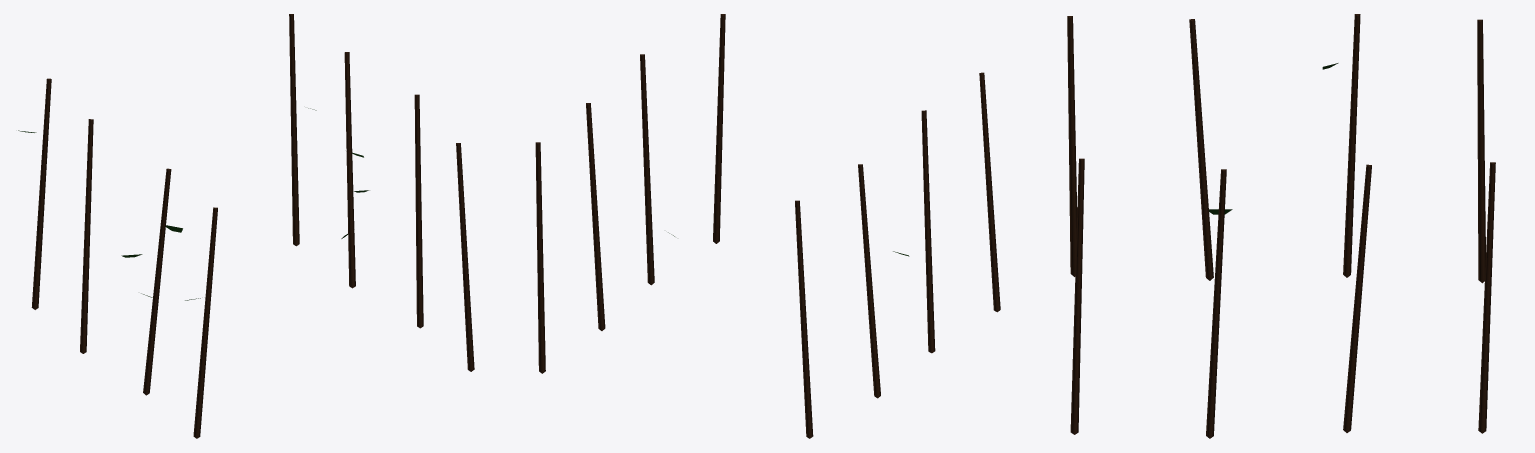
File: fm_yam_2_lod1.glb
The picture shows the model from 3 angles, left to right: view 1: azimuth 30°, elevation 25°; view 2: azimuth 150°, elevation 25°; view 3: azimuth 270°, elevation 25°; orthographic projection. The views are drawn at different scales.
Parts seen in each view (by area): view 1: fm_yam_2_lod1; view 2: fm_yam_2_lod1; view 3: fm_yam_2_lod1.
Boxes of the visible parts, <box> form: fm_yam_2_lod1: <box>18,14,474,438</box>; fm_yam_2_lod1: <box>535,14,1000,438</box>; fm_yam_2_lod1: <box>1067,14,1495,438</box>.
Bounding box in the file's own units: 2.41 × 1.6 × 2.56.
